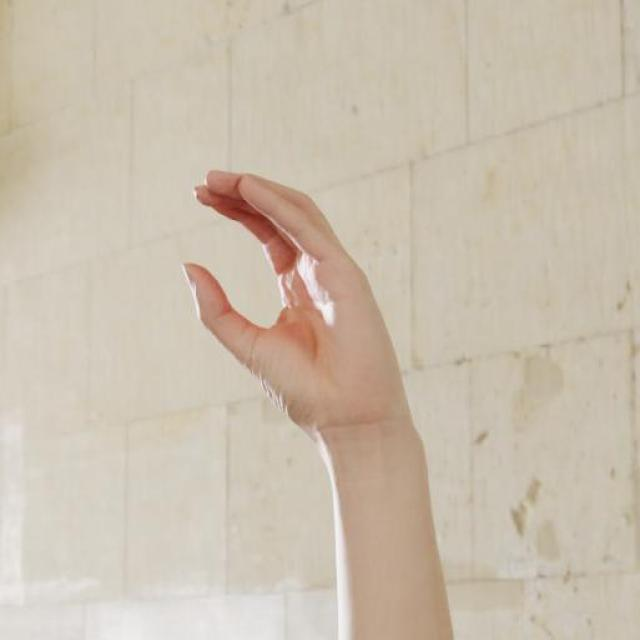C: (183, 166, 416, 428)
